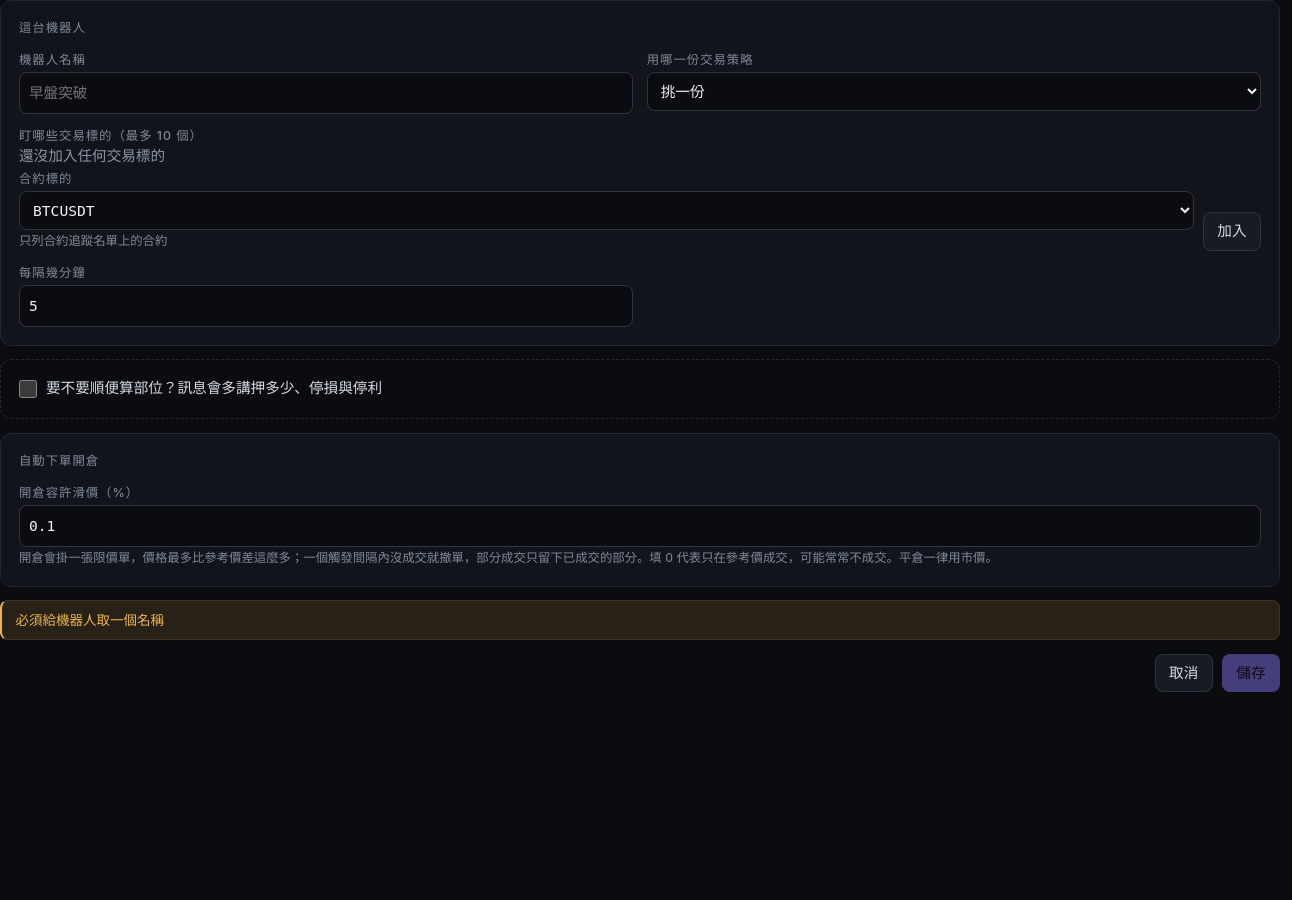
Test: StrategyBotForm 的開倉容許滑價 › 填「5.01」儲存不給按，並說出範圍
Type "費率反轉" into the field with test id "bot-name-input". click: (326, 93)
box: [19,72,633,114]
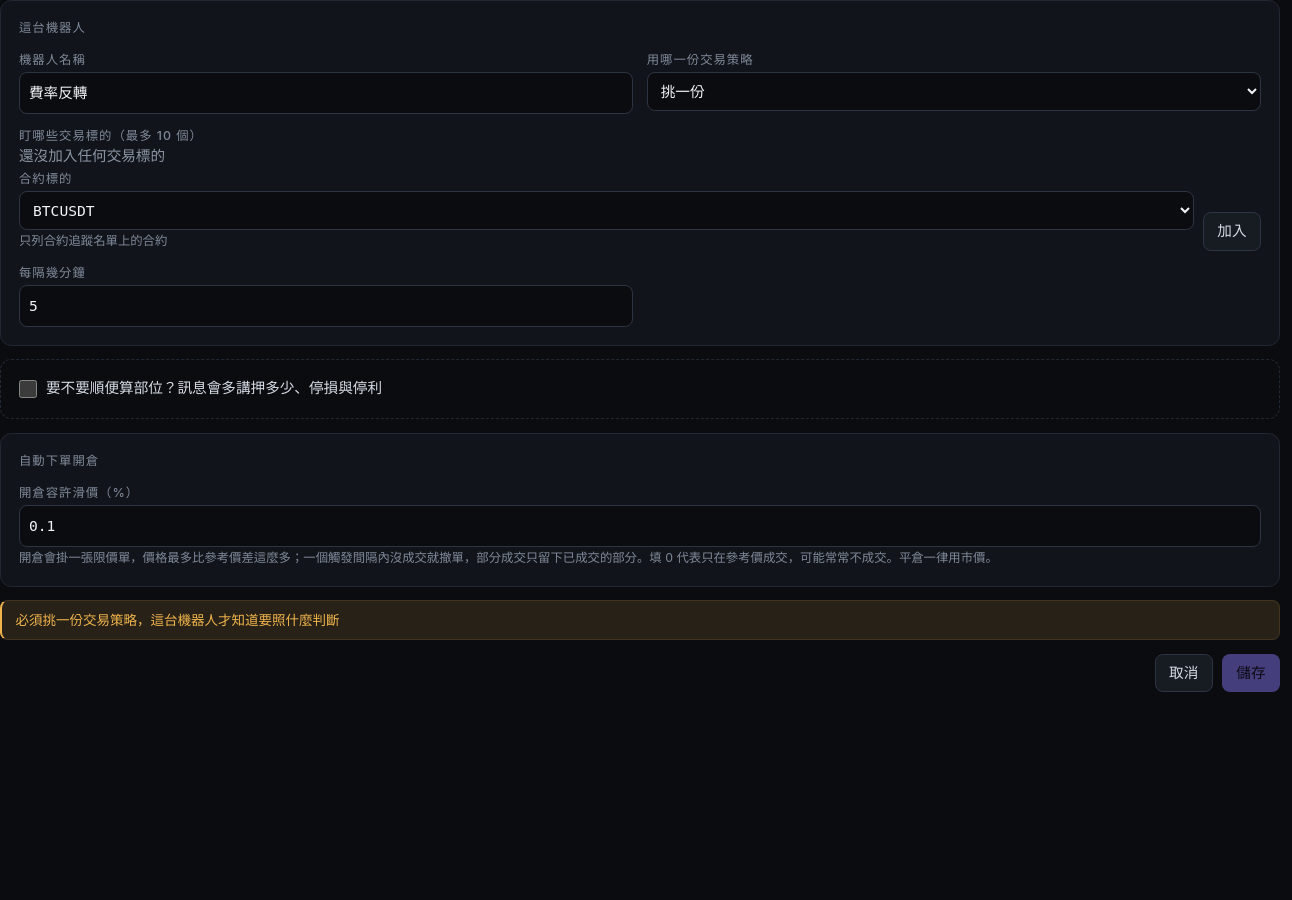
Select "黃金交叉" in the dropdown with test id "bot-trading-strategy-select". click: (954, 91)
box: [647,72,1261,111]
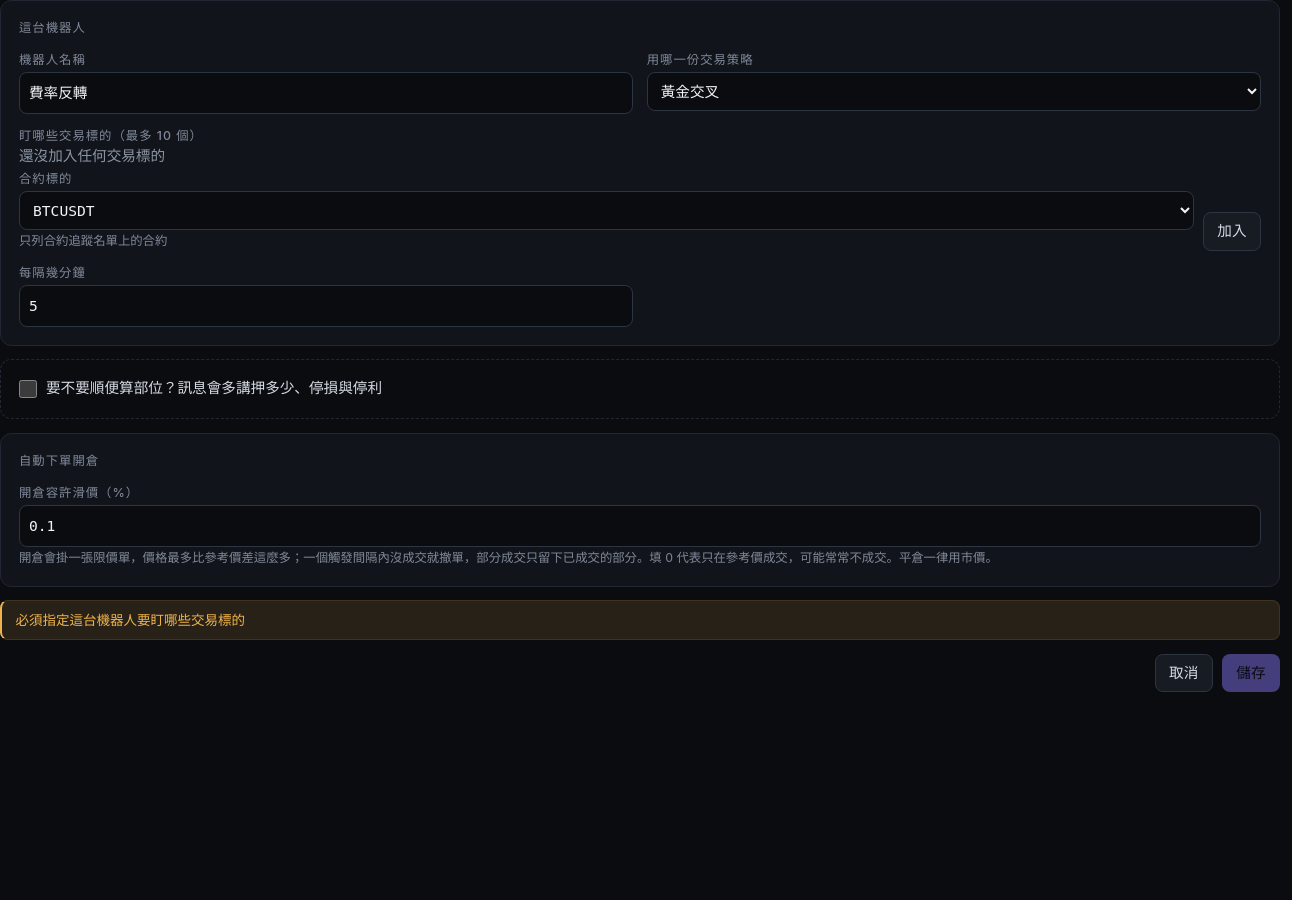
Click the button with test id "bot-watched-symbol-add". click: click(1232, 232)
box: [1203,212,1261,251]
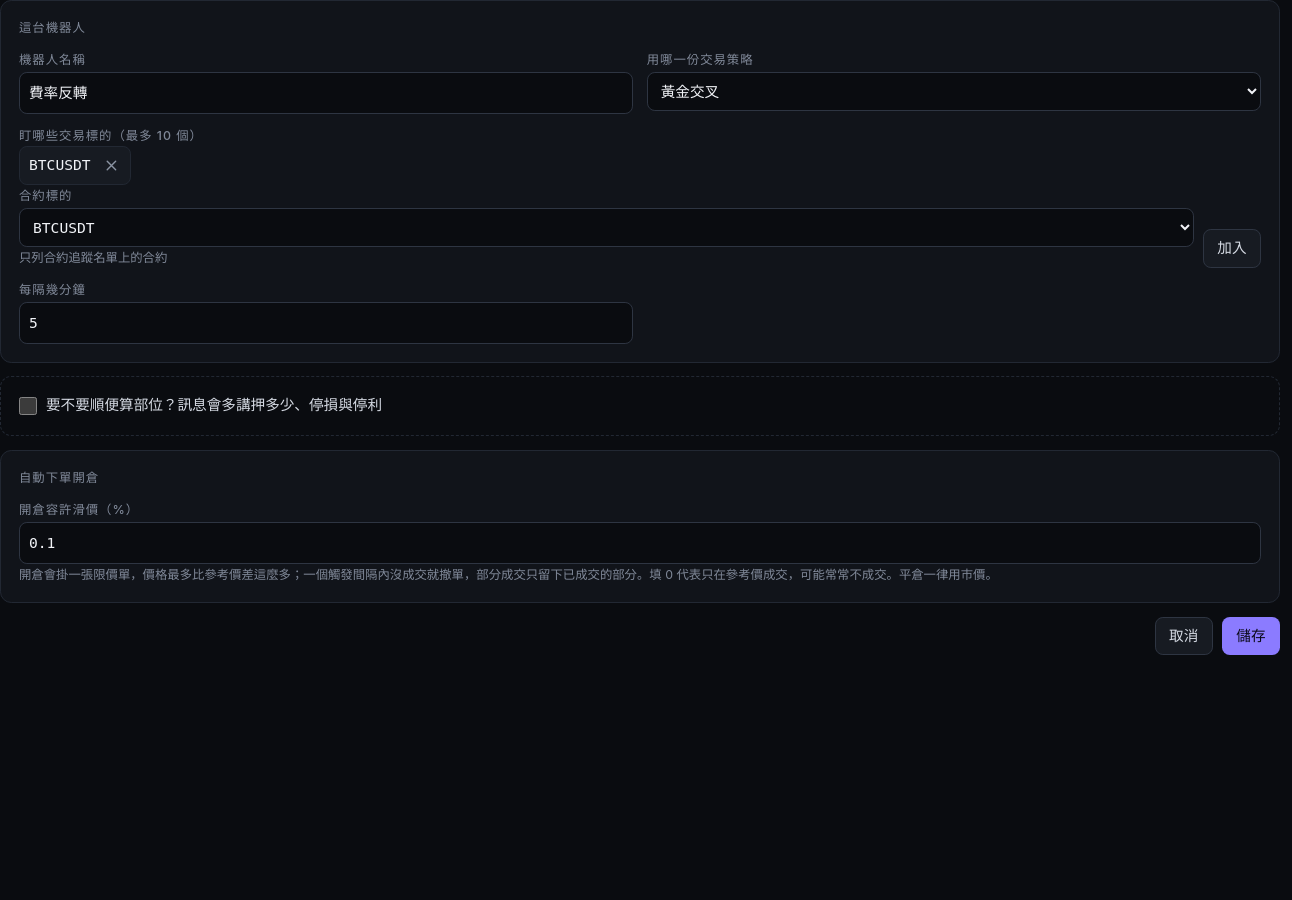
Type "5.01" into the number field with test id "bot-entry-slippage-tolerance-input". click: (640, 543)
box: [19,522,1261,564]
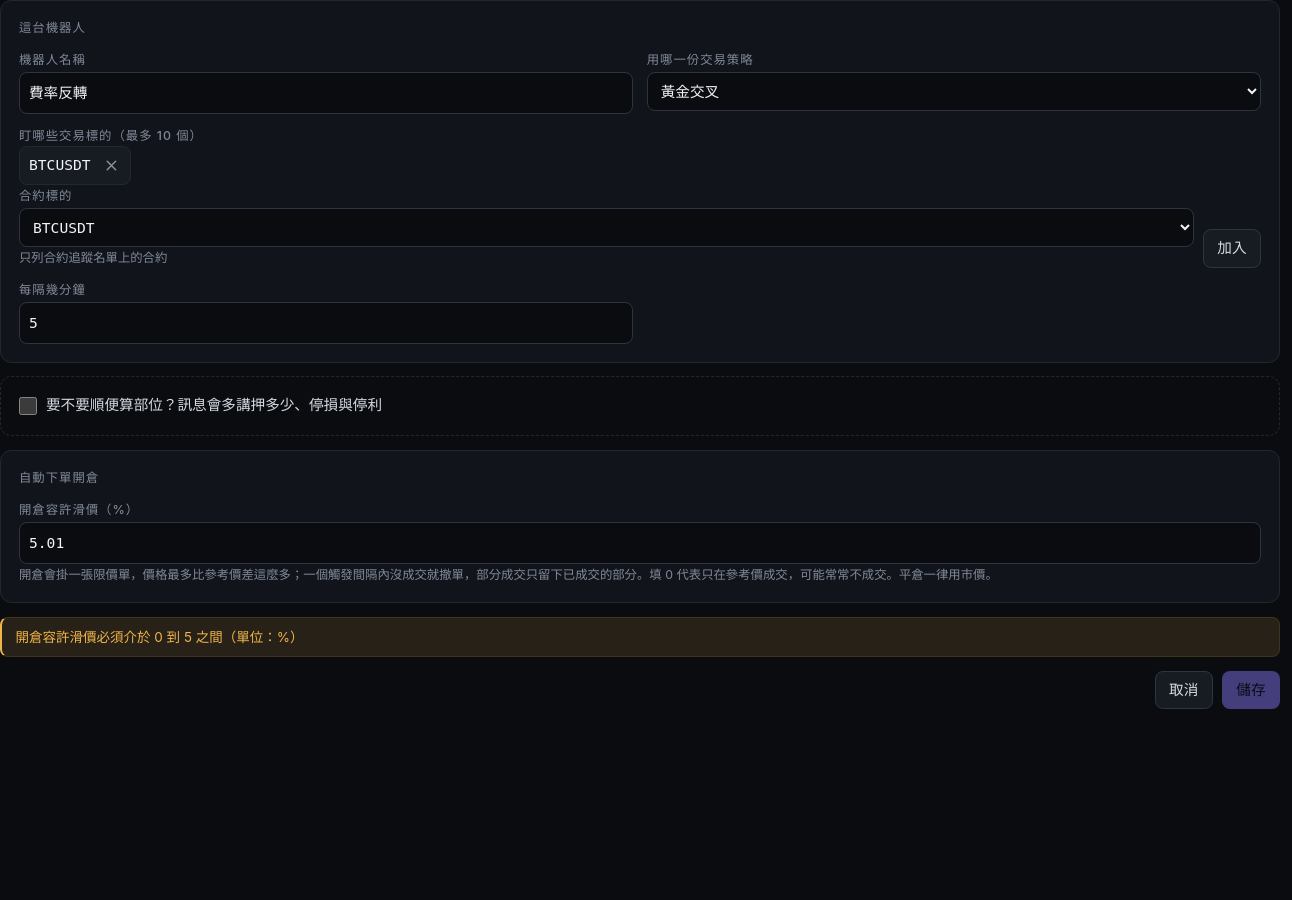
Expected: the message with test id "bot-form-rejection" reads "開倉容許滑價必須介於 0 到 5 之間（單位：%）", [16,629,304,645]
Expected: the button with test id "bot-form-save" is disabled, [1222,671,1280,709]
